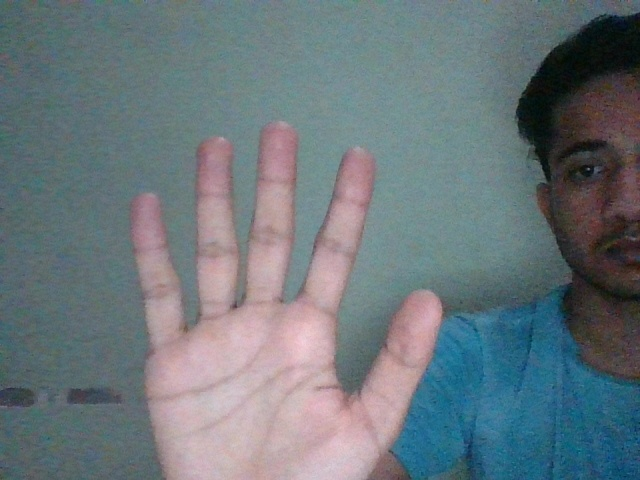Hello: (129, 120, 441, 480)
